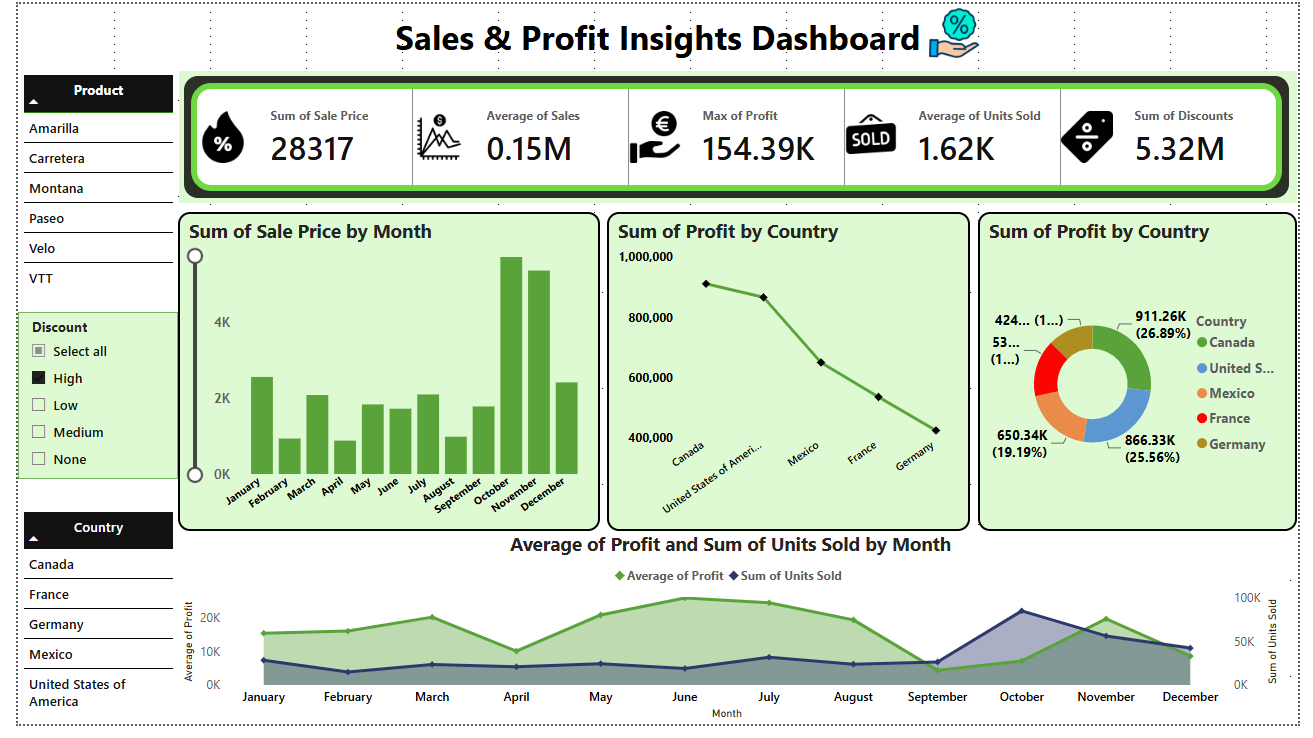

This screenshot's page, from the dashboard's own definition file:
{"tool":"powerbi","page":{"name":"Page 1","canvas":[1280,720],"ordinal":0},"visuals":[{"type":"cardVisual","fields":{"Data":["Sum(financials.Sale Price)","Avg(financials.Sales)","Max(financials.Profit)","Avg(financials.Units Sold)","Sum(financials.Discounts)"]},"box":[160.9,66.6,1118.3,132.3],"z":0},{"type":"clusteredColumnChart","fields":{"Category":["financials.Date.Variation.Date Hierarchy.Month"],"Y":["Sum(financials.Sale Price)"]},"box":[160,208,422,319],"z":1000},{"type":"tableEx","fields":{"Values":["financials.Product"]},"box":[0,66.3,160.3,227.6],"z":2000},{"type":"areaChart","fields":{"Category":["financials.Date.Variation.Date Hierarchy.Month","financials.Date.Variation.Date Hierarchy.Day"],"Y":["Avg(financials.Profit)"],"Y2":["Sum(financials.Units Sold)"]},"box":[160.3,526.5,1104.5,194],"z":3000},{"type":"tableEx","fields":{"Values":["financials.Country"]},"box":[0,502.8,160.3,217.7],"z":4000},{"type":"donutChart","fields":{"Category":["financials.Country"],"Y":["Sum(financials.Profit)"]},"box":[960,208,319,319],"z":5000},{"type":"textbox","box":[0,287,160.3,215.8],"z":6000},{"type":"slicer","fields":{"Values":["financials.Discount Band"]},"box":[0,307.8,160.3,167.3],"z":7000},{"type":"actionButton","box":[0,6,1279.7,53.1],"z":8000},{"type":"lineChart","fields":{"Y":["Sum(financials.Profit)"],"Category":["financials.Country"]},"box":[589,208,363,319],"z":9000},{"type":"actionButton","box":[906.9,0,77.1,65.1],"z":10000}]}

Visuals, with their boxes in screenshot pixels (x1, y1, x2, y2), scaled from the page's 1280x720 canvas onto the 1313x738 screenshot:
cardVisual - Sum(financials.Sale Price) x Avg(financials.Sales): (165,68,1312,204)
clusteredColumnChart - financials.Date.Variation.Date Hierarchy.Month x Sum(financials.Sale Price): (164,213,597,540)
tableEx - financials.Product: (0,68,164,301)
areaChart - financials.Date.Variation.Date Hierarchy.Month x financials.Date.Variation.Date Hierarchy.Day: (164,540,1297,737)
tableEx - financials.Country: (0,515,164,737)
donutChart - financials.Country x Sum(financials.Profit): (985,213,1312,540)
textbox: (0,294,164,515)
slicer - financials.Discount Band: (0,315,164,487)
actionButton: (0,6,1312,61)
lineChart - Sum(financials.Profit) x financials.Country: (604,213,977,540)
actionButton: (930,0,1009,67)
